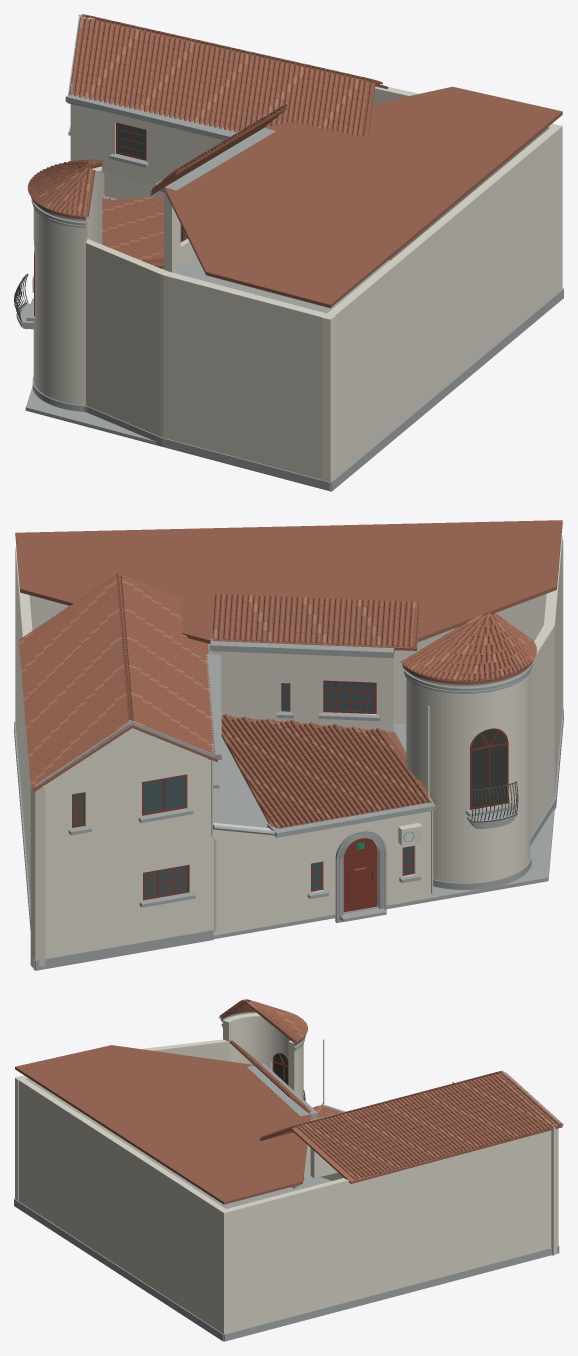
The model's file is raw.glb.
3 renders of one model, top to bottom at view 1: azimuth 30°, elevation 25°; view 2: azimuth 150°, elevation 25°; view 3: azimuth 270°, elevation 25°, orthographic. The views are drawn at different scales.
Visible parts, largest first — view 1: 徐汇武康路129号二层住宅; view 2: 徐汇武康路129号二层住宅; view 3: 徐汇武康路129号二层住宅.
Part boxes in pixels (x1=…): 徐汇武康路129号二层住宅: x1=14, y1=14, x2=563, y2=491; 徐汇武康路129号二层住宅: x1=14, y1=520, x2=563, y2=970; 徐汇武康路129号二层住宅: x1=14, y1=999, x2=563, y2=1341.
Bounding box in the file's own units: 16.38 × 7.15 × 20.15.
